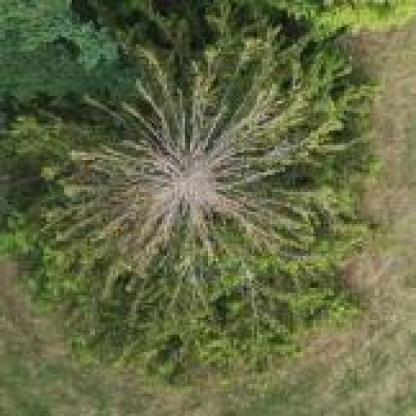Coniferous Tree: (29, 32, 378, 384)
